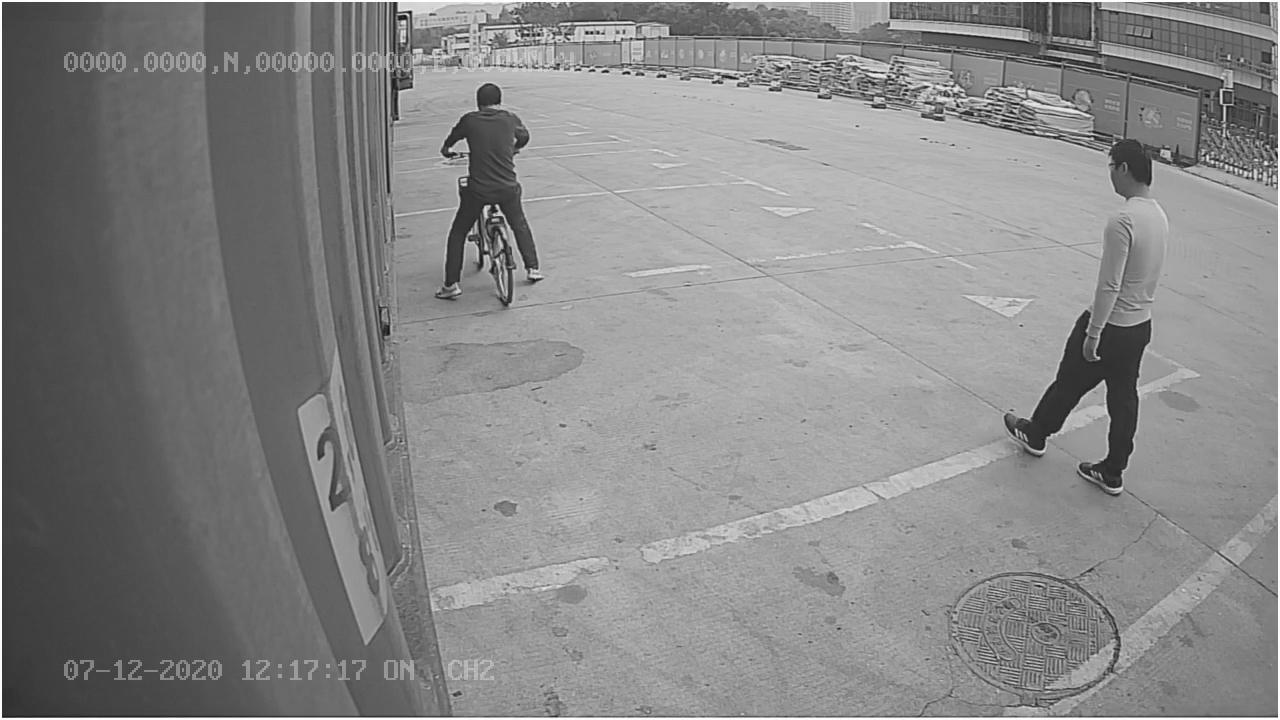person: (997, 127, 1172, 500)
